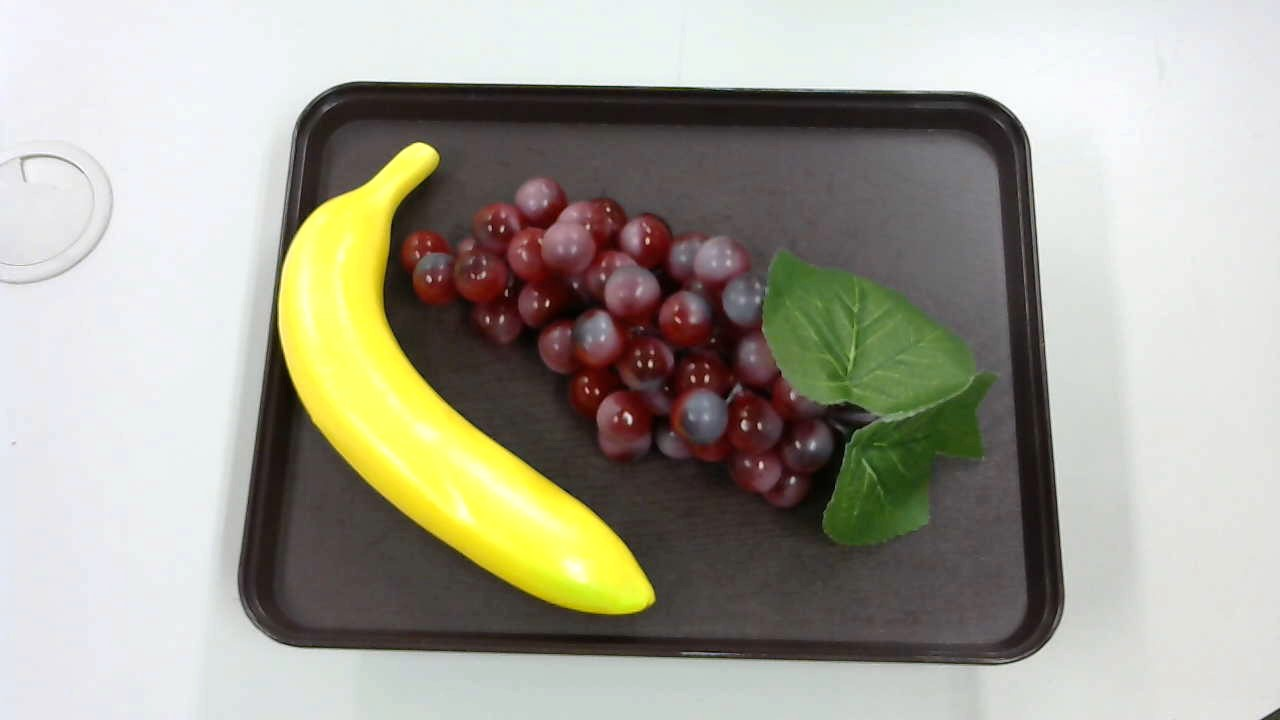banana: (268, 135, 664, 629)
grape: (395, 176, 1000, 556)
